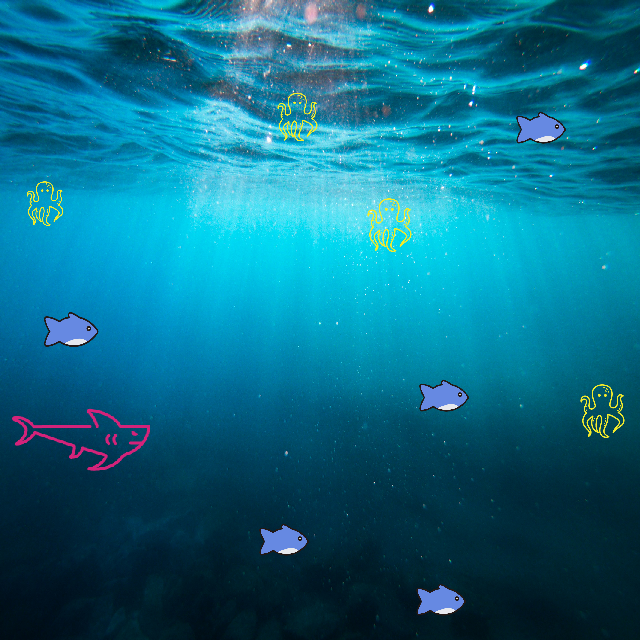target fish: (11, 410, 151, 470)
